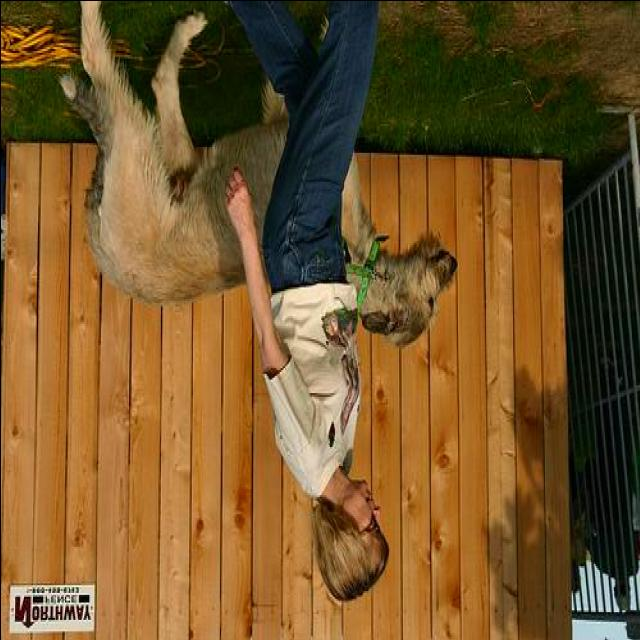irish_wolfhound: (46, 2, 467, 369)
